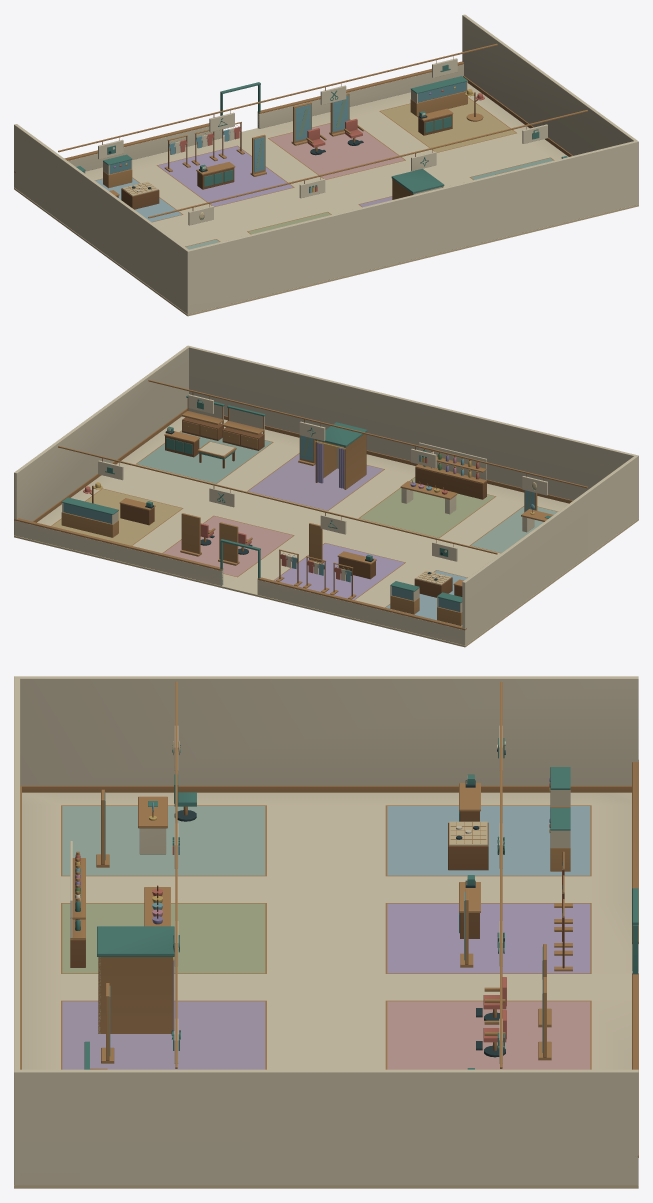
The model's file is mall_interior.glb.
3 views of the same model, one above another, from view 1: azimuth 30°, elevation 25°; view 2: azimuth 150°, elevation 25°; view 3: azimuth 270°, elevation 25° (orthographic). The views are drawn at different scales.
Bounding box in the file's own units: 30 × 4.12 × 20.01.
